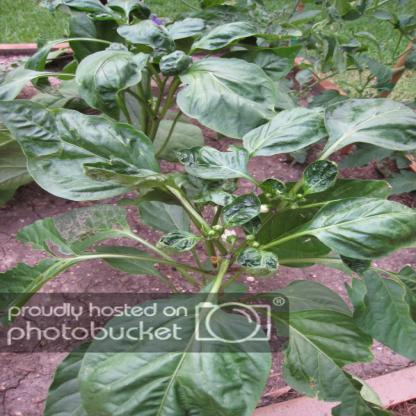bell pepper leaf: (80, 303, 282, 415), (1, 98, 165, 201), (273, 314, 375, 397), (175, 57, 278, 133), (312, 196, 415, 258), (321, 96, 415, 149), (243, 106, 326, 158)
